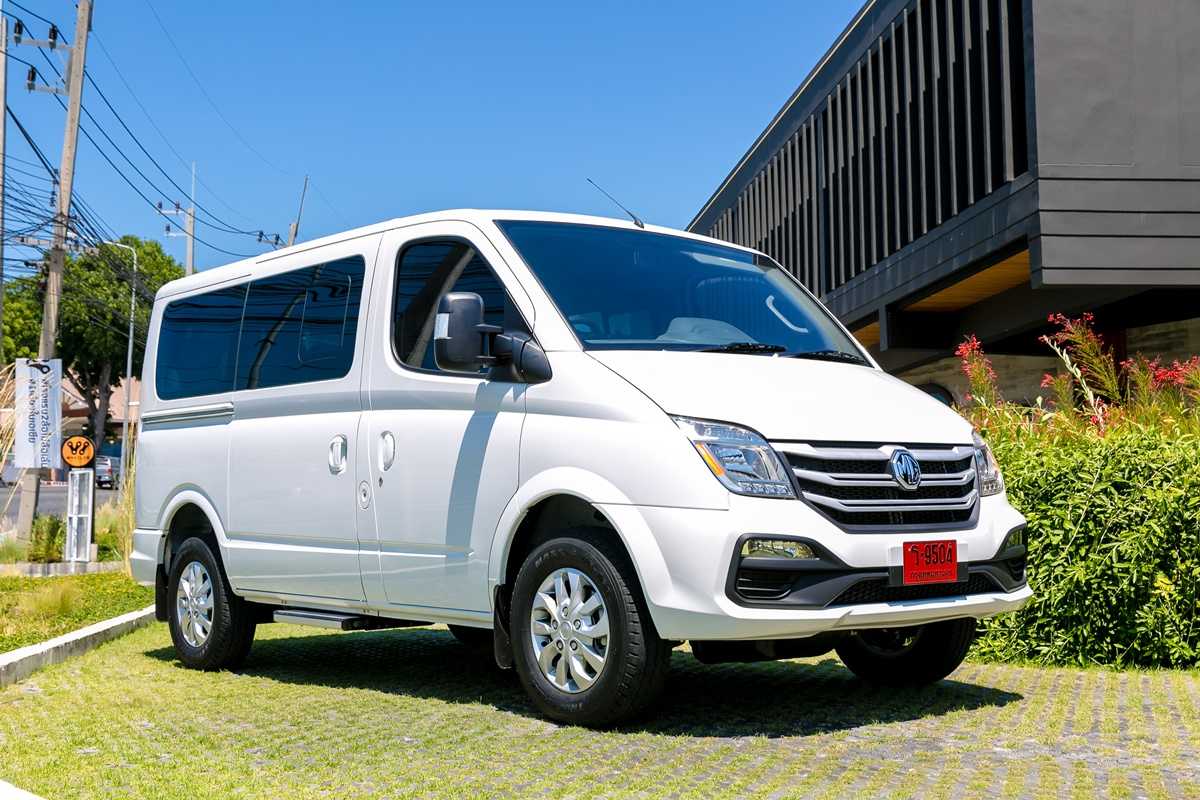van: (130, 207, 1037, 728)
